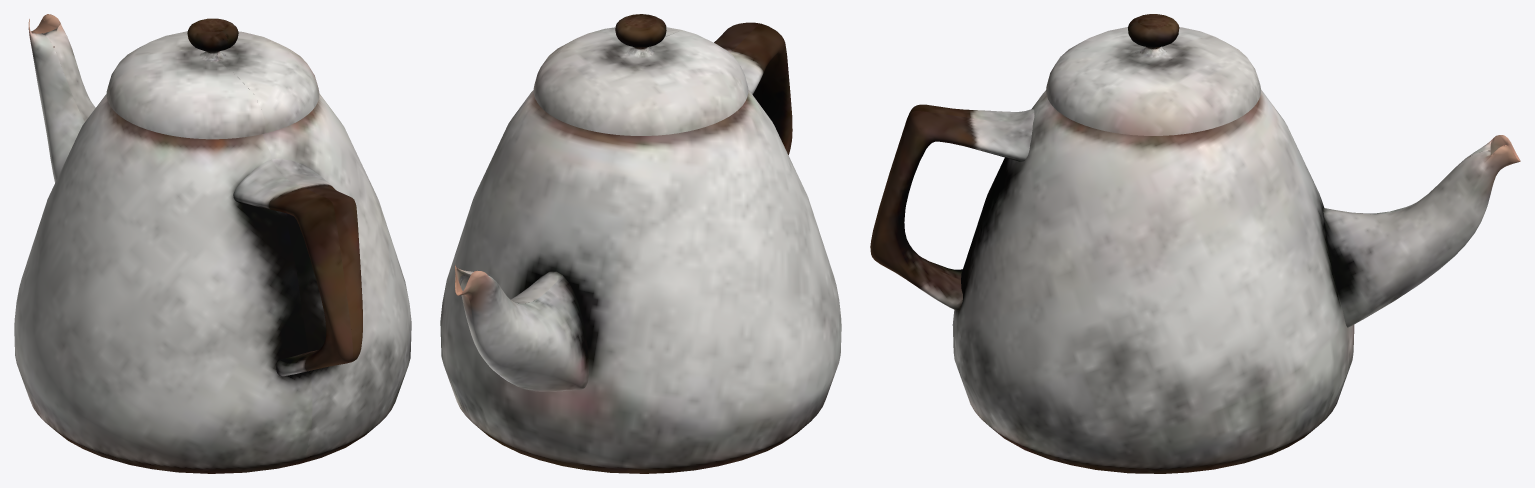
Rendered from obj_teapot_weathered_metal_teapo.glb.
3 views of the same model, side by side, from view 1: azimuth 30°, elevation 25°; view 2: azimuth 150°, elevation 25°; view 3: azimuth 270°, elevation 25° (orthographic).
Visible parts, largest first — view 1: tea_Teapot_0; view 2: tea_Teapot_0; view 3: tea_Teapot_0.
Part boxes in pixels (x1,y1,x2,y2): tea_Teapot_0: (14,14,411,473); tea_Teapot_0: (440,14,841,473); tea_Teapot_0: (870,14,1520,473).
Bounding box in the file's own units: 0.2453 × 0.26 × 0.397.
1 material, 1 textured.
